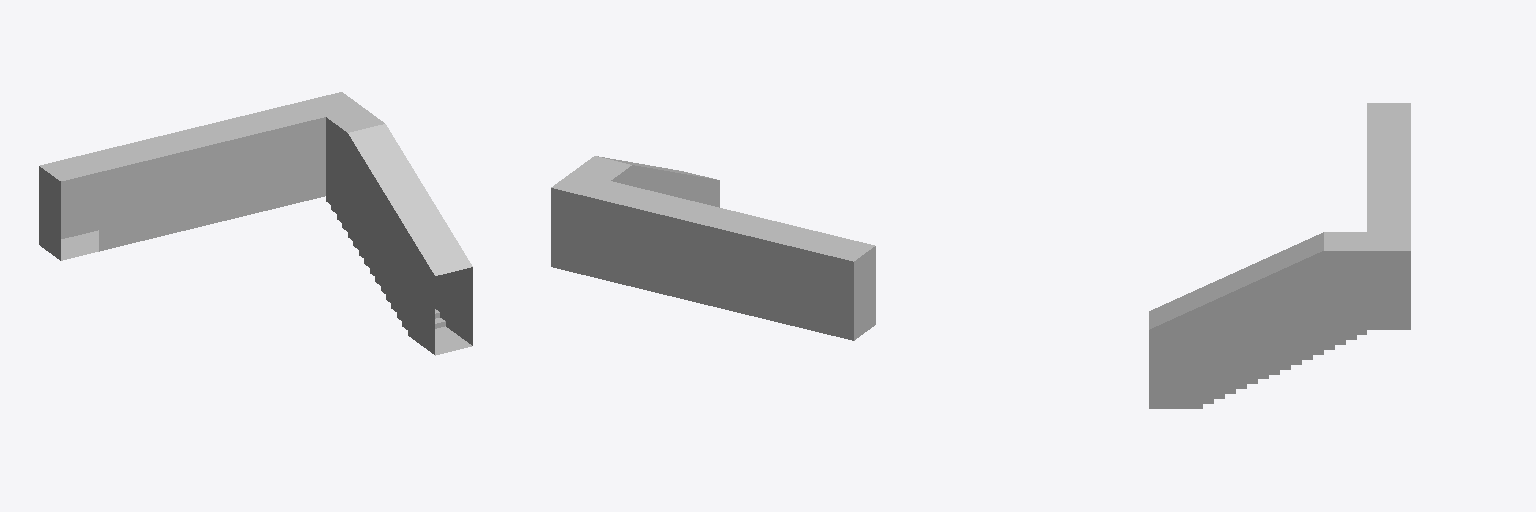
Rendered from map.obj.
The picture shows the model from 3 angles: view 1: azimuth 30°, elevation 25°; view 2: azimuth 150°, elevation 25°; view 3: azimuth 270°, elevation 25°; orthographic projection.
Visible parts, largest first — view 1: map; view 2: map; view 3: map.
Part boxes in pixels (x1,y1,x2,y2): map: (39, 92, 472, 355); map: (551, 156, 875, 340); map: (1149, 103, 1410, 408).
Size of the model in its own units: 8 by 4 by 6.